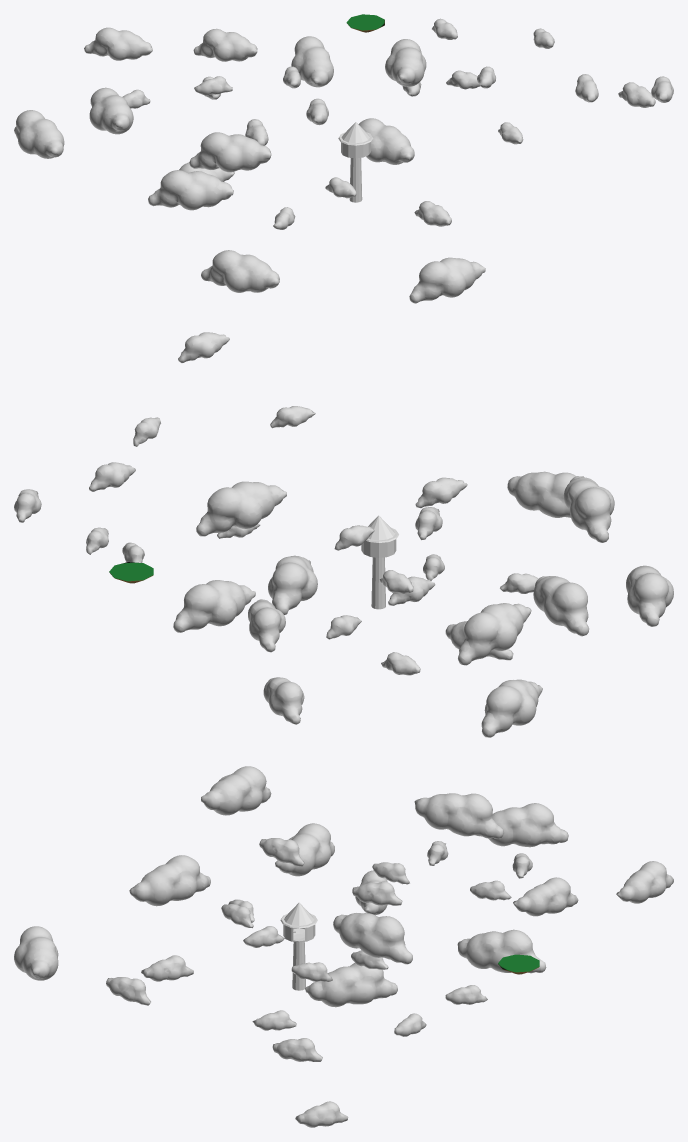
File: towerscene.glb
The picture shows the model from 3 angles, top to bottom: view 1: azimuth 30°, elevation 25°; view 2: azimuth 150°, elevation 25°; view 3: azimuth 270°, elevation 25°; orthographic projection. The views are drawn at different scales.
Visible parts, largest first — view 1: Mball.157, Mball.002, Mball.001, tower, Cone; view 2: Mball.002, Mball.001, Mball.157, tower, Cone; view 3: Mball.002, Mball.001, Mball.157, tower, Cone.
Boxes of the visible parts, <box> form: Mball.157: <box>179,70,655,303</box>; Mball.002: <box>89,28,673,172</box>; Mball.001: <box>14,18,598,210</box>; tower: <box>338,122,373,202</box>; Cone: <box>346,14,384,32</box>; Mball.002: <box>133,332,614,665</box>; Mball.001: <box>86,462,589,737</box>; Mball.157: <box>14,471,673,660</box>; tower: <box>361,515,398,609</box>; Cone: <box>109,562,153,583</box>; Mball.002: <box>106,766,578,1005</box>; Mball.001: <box>272,803,673,1061</box>; Mball.157: <box>14,855,426,1127</box>; tower: <box>280,902,317,990</box>; Cone: <box>498,954,539,974</box>.
Bounding box in the file's own units: 500 × 115 × 487.
Materials: 4 (1 with a texture image).
